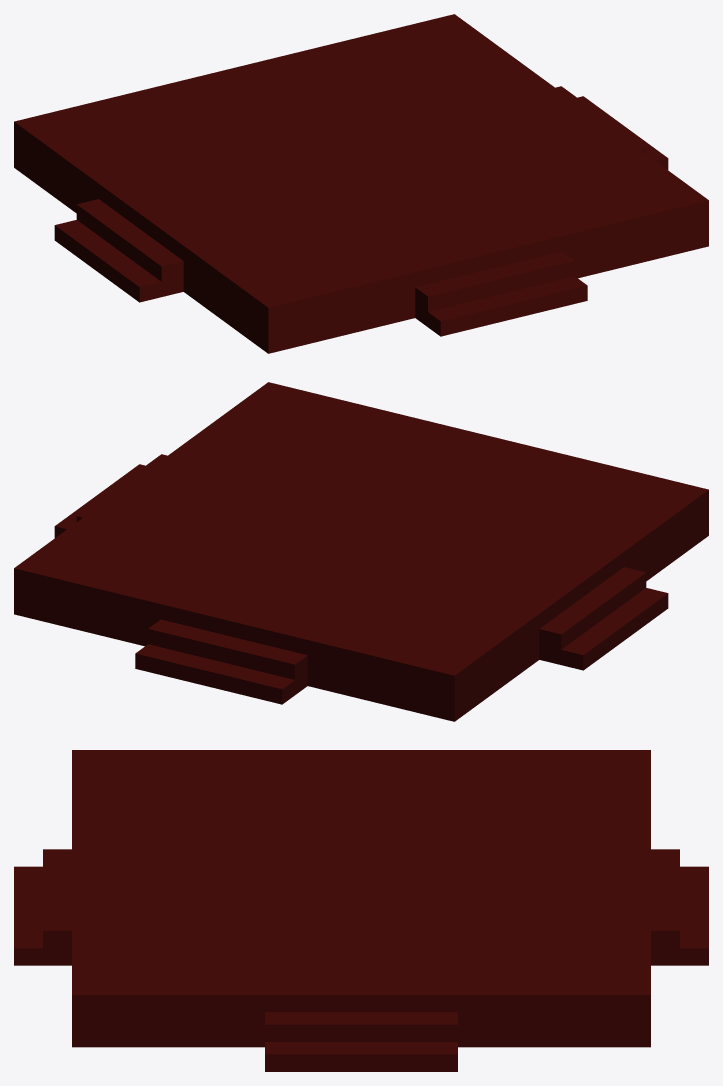
The picture shows the model from 3 angles, top to bottom: view 1: azimuth 30°, elevation 25°; view 2: azimuth 150°, elevation 25°; view 3: azimuth 270°, elevation 25°; orthographic projection. The views are drawn at different scales.
Visible parts, largest first — view 1: Base; view 2: Base; view 3: Base.
Part boxes in pixels (box(x1,y1,x2,y2)): Base: box(14, 14, 708, 353); Base: box(14, 382, 708, 721); Base: box(14, 750, 708, 1071).
Bounding box in the file's own units: 25.98 × 2.16 × 25.98.
